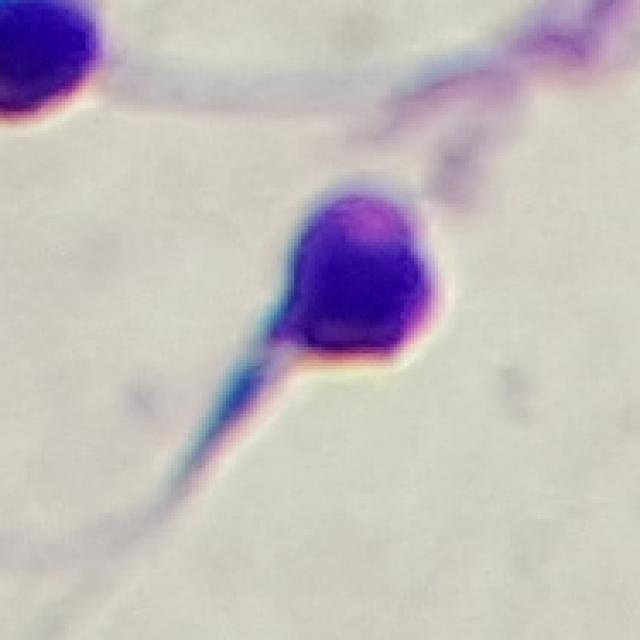abnormal sperm: (161, 176, 456, 492)
